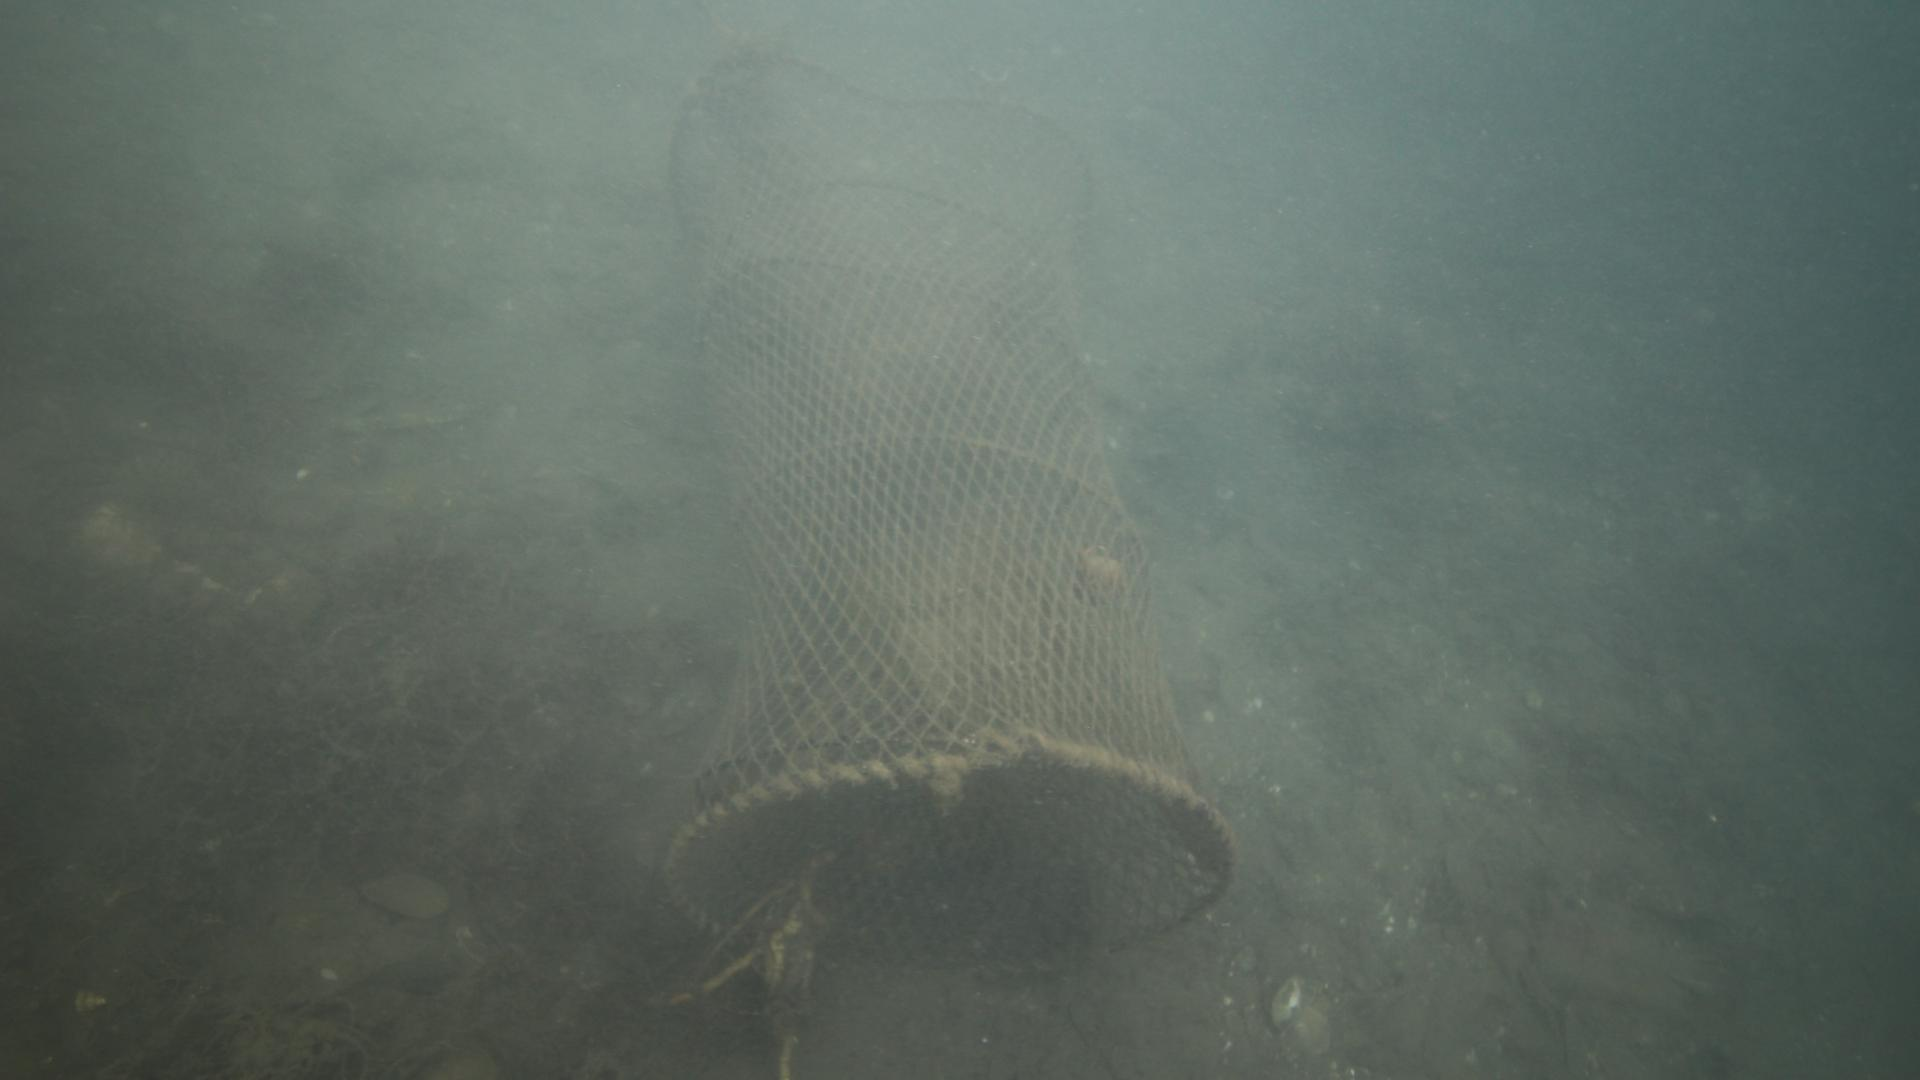spring fish trap: (655, 46, 1240, 986)
